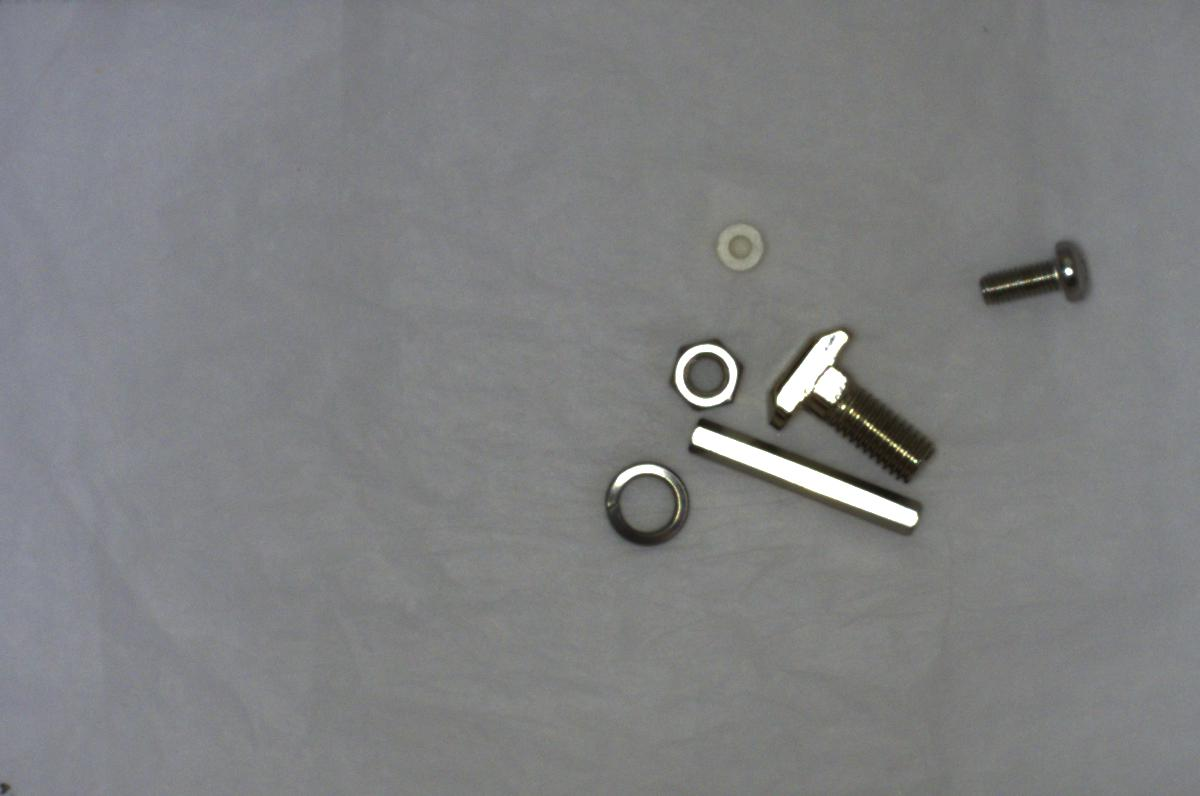Double hexagonal column: (682, 409, 932, 541)
Hexagon nut: (661, 327, 744, 417)
Plastic cushion pillar: (700, 215, 773, 281)
Round head screw: (973, 224, 1107, 317)
Spring washer: (600, 449, 700, 553)
T-shaped screw: (761, 321, 933, 481)
